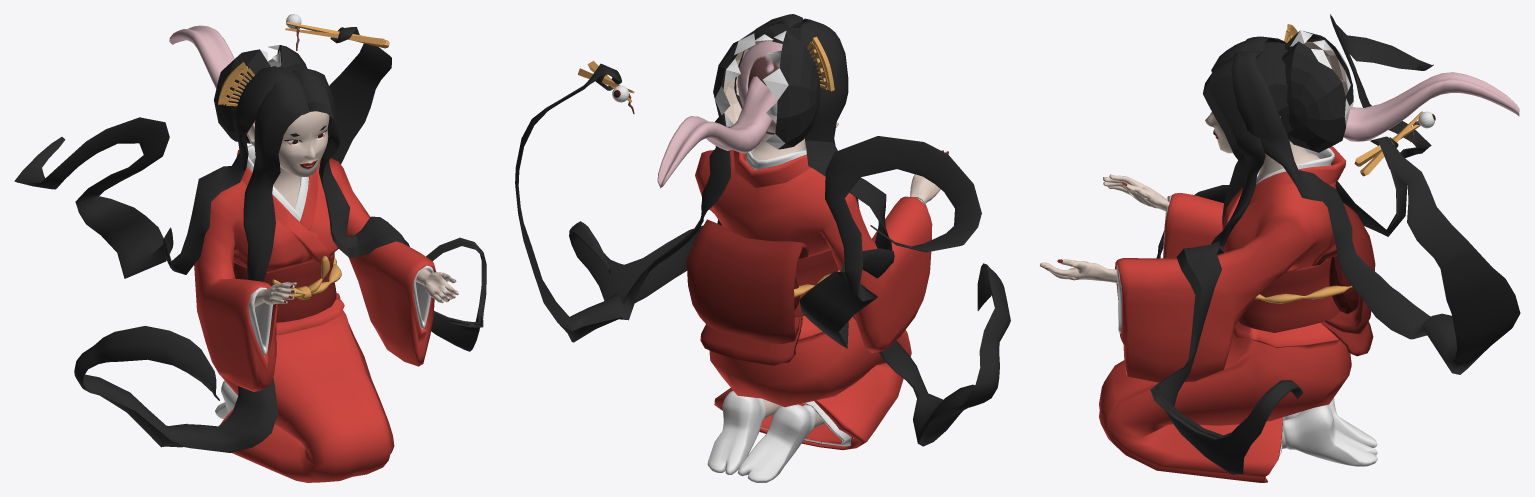
Rendered from futakuchiOnna.fbx.
The picture shows the model from 3 angles, left to right: view 1: azimuth 30°, elevation 25°; view 2: azimuth 150°, elevation 25°; view 3: azimuth 270°, elevation 25°; orthographic projection. The views are drawn at different scales.
Visible parts, largest first — view 1: polySurface618, pCylinder5, pCylinder7, pCylinder4, pCylinder6, polySurface619, polySurface621, pSphere14, polySurface605, polySurface616, polySurface615, polySurface613 (+6 smaller); view 2: polySurface618, pCylinder7, polySurface611, pCylinder5, pCylinder6, polySurface605, pCylinder4, pSphere14, polySurface614, polySurface610, polySurface604, polySurface619 (+5 smaller); view 3: polySurface618, pCylinder6, pCylinder4, polySurface604, pCylinder7, pSphere14, polySurface619, polySurface610, polySurface611, polySurface606, pCylinder5, polySurface605 (+7 smaller).
Part boxes in pixels (x1,y1,x2,y2): polySurface618: [194, 146, 436, 482]; pCylinder5: [74, 75, 309, 452]; pCylinder7: [14, 66, 299, 278]; pCylinder4: [302, 82, 486, 351]; pCylinder6: [292, 27, 391, 164]; polySurface619: [233, 252, 336, 322]; polySurface621: [246, 111, 329, 177]; pSphere14: [169, 25, 234, 88]; polySurface605: [214, 49, 270, 143]; polySurface616: [248, 287, 272, 356]; polySurface615: [415, 269, 458, 303]; polySurface613: [272, 255, 341, 299]; polySurface618: [695, 149, 932, 450]; pCylinder7: [792, 21, 981, 348]; polySurface611: [686, 219, 808, 365]; pCylinder5: [802, 18, 1010, 446]; pCylinder6: [515, 14, 803, 342]; polySurface605: [763, 30, 820, 149]; pCylinder4: [569, 219, 721, 302]; pSphere14: [657, 76, 777, 188]; polySurface614: [737, 404, 825, 482]; polySurface610: [707, 391, 780, 474]; polySurface604: [713, 24, 777, 127]; polySurface619: [794, 248, 838, 317]; polySurface618: [1099, 146, 1351, 482]; pCylinder6: [1231, 51, 1520, 374]; pCylinder4: [1150, 56, 1303, 474]; polySurface604: [1282, 41, 1350, 152]; pCylinder7: [1244, 14, 1433, 236]; pSphere14: [1343, 72, 1519, 141]; polySurface619: [1238, 257, 1340, 332]; polySurface610: [1282, 405, 1377, 466]; polySurface611: [1312, 203, 1375, 356]; polySurface606: [1256, 42, 1294, 144]; pCylinder5: [1156, 41, 1246, 258]; polySurface605: [1285, 30, 1353, 107].
Bounding box in the file's own units: 6.13 × 5.51 × 5.67.
